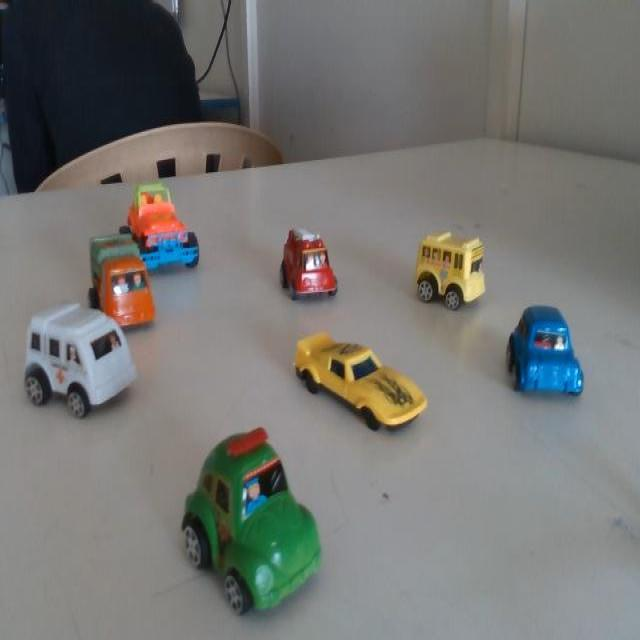car: (173, 429, 334, 623), (22, 282, 149, 438), (297, 324, 422, 439), (407, 229, 489, 323), (130, 175, 206, 272), (511, 304, 584, 400), (269, 218, 339, 318), (90, 224, 153, 334)
